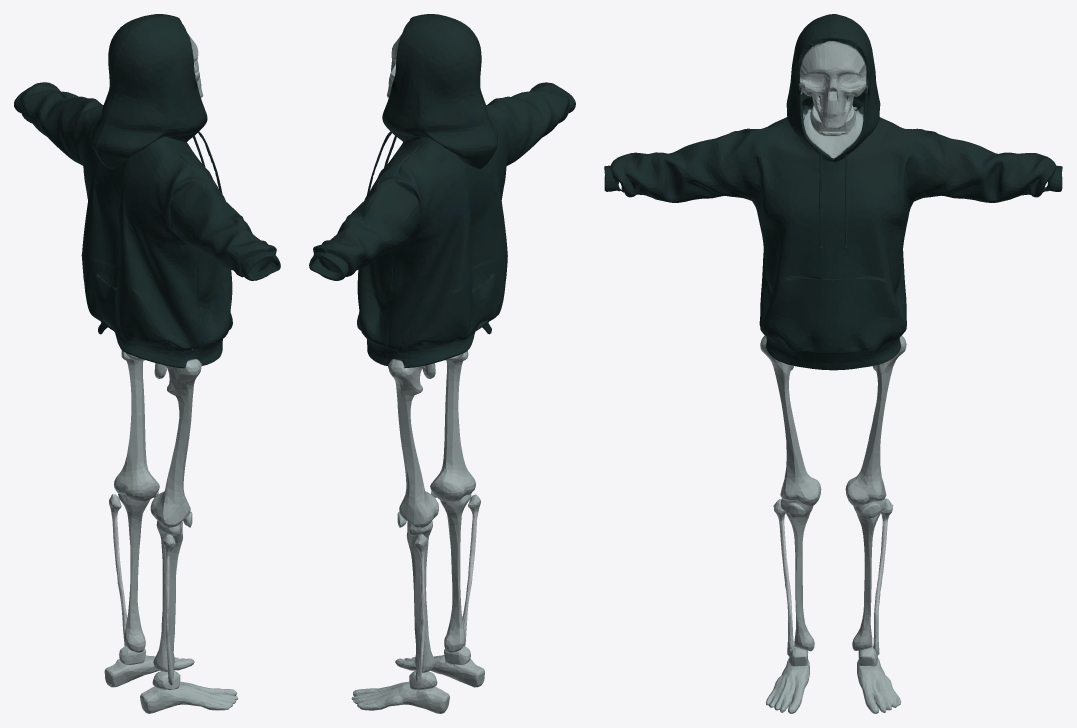
Rendered from man-kulou.fbx.
3 views of the same model, side by side, from view 1: azimuth 30°, elevation 25°; view 2: azimuth 150°, elevation 25°; view 3: azimuth 270°, elevation 25° (orthographic).
Visible parts, largest first — view 1: tripo_node_2981d7e4-d1eb-48d0-aad1-53f2f6394aed; view 2: tripo_node_2981d7e4-d1eb-48d0-aad1-53f2f6394aed; view 3: tripo_node_2981d7e4-d1eb-48d0-aad1-53f2f6394aed.
Part boxes in pixels (x1=…): tripo_node_2981d7e4-d1eb-48d0-aad1-53f2f6394aed: x1=14, y1=14, x2=280, y2=713; tripo_node_2981d7e4-d1eb-48d0-aad1-53f2f6394aed: x1=309, y1=14, x2=575, y2=713; tripo_node_2981d7e4-d1eb-48d0-aad1-53f2f6394aed: x1=604, y1=14, x2=1062, y2=713.
Size of the model in its own units: 19.49 by 99.76 by 62.32.
1 material, 1 textured.
